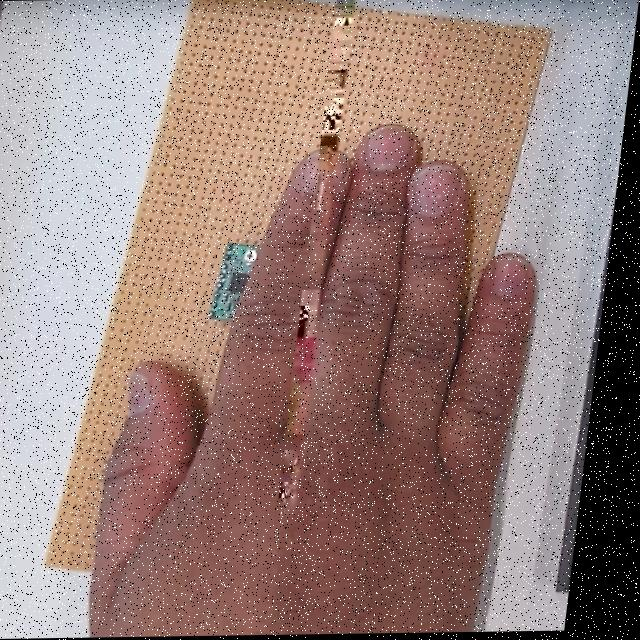Chip: (206, 234, 265, 323)
